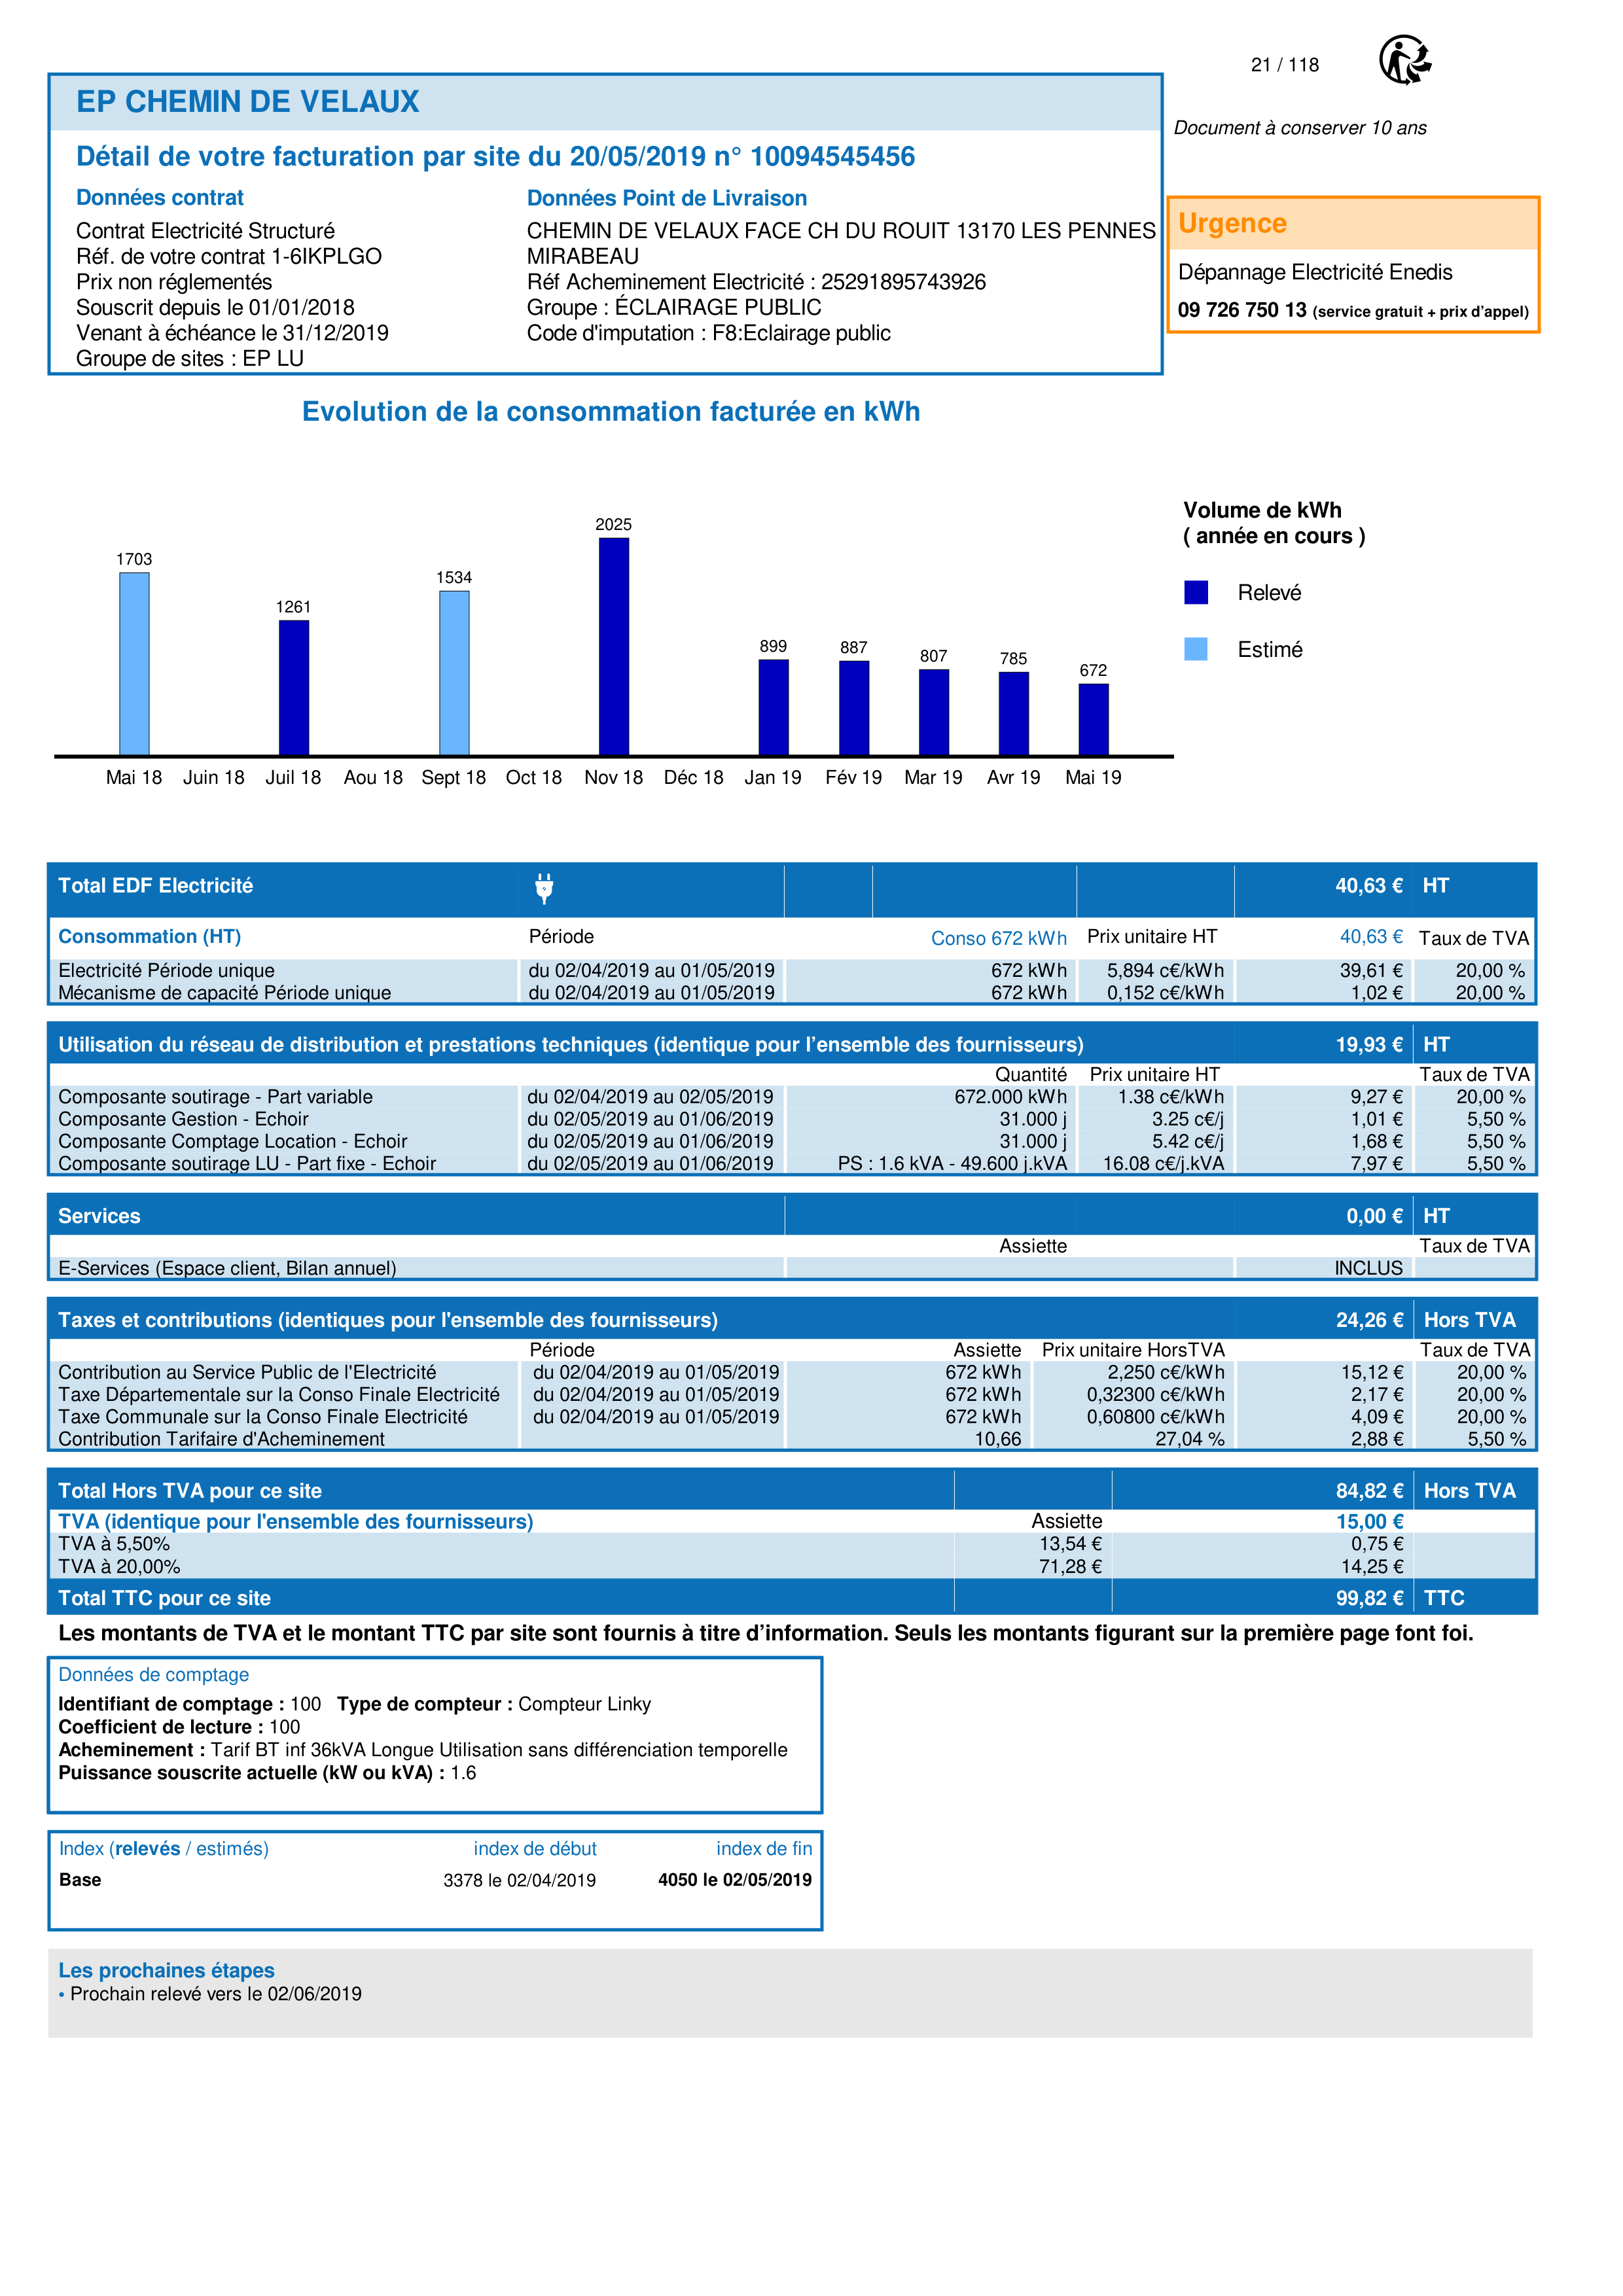area: (49, 1829, 821, 1930)
type_indicator: (50, 1829, 277, 1863)
